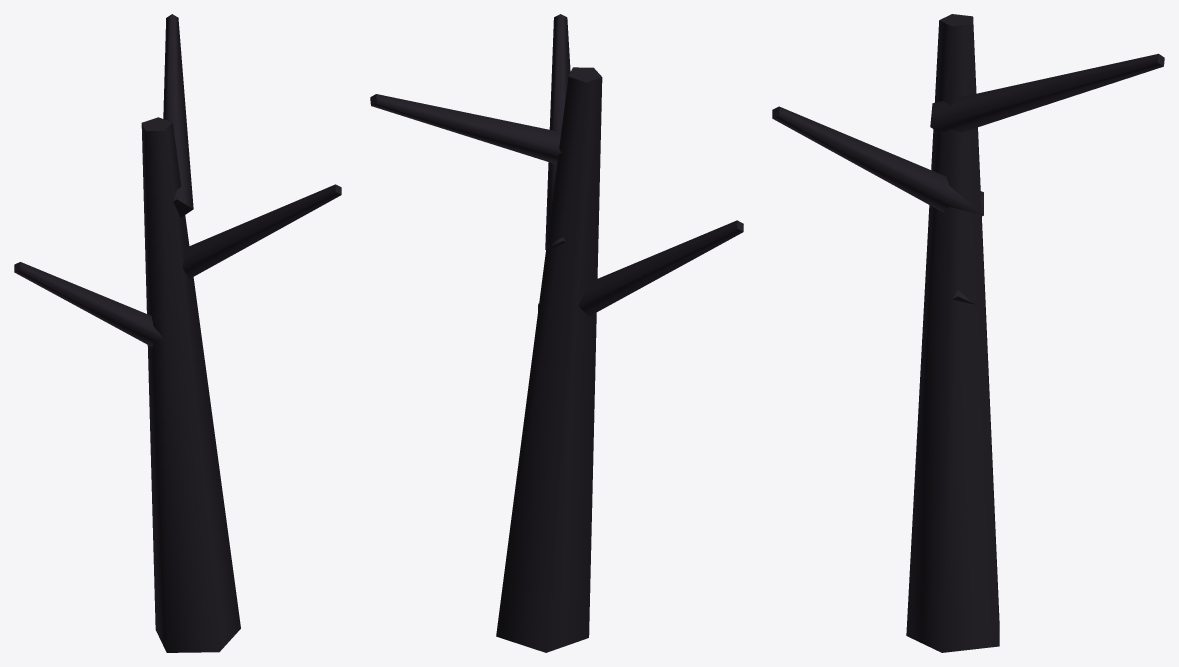
Rendered from arbre-sec.glb.
The picture shows the model from 3 angles, left to right: view 1: azimuth 30°, elevation 25°; view 2: azimuth 150°, elevation 25°; view 3: azimuth 270°, elevation 25°; orthographic projection. The views are drawn at different scales.
Parts seen in each view (by area): view 1: arbre-sec; view 2: arbre-sec; view 3: arbre-sec.
Boxes of the visible parts, box(x1,y1,x2,y2) form: arbre-sec: box(14, 14, 341, 652); arbre-sec: box(370, 14, 743, 652); arbre-sec: box(772, 14, 1164, 652).
Bounding box in the file's own units: 1.56 × 3.2 × 1.83.
Materials: 1 (1 with a texture image).
